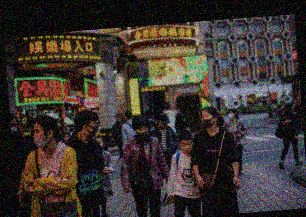mask_weared_incorrect: (32, 125, 48, 148)
with_mask: (134, 122, 149, 139), (200, 110, 215, 126), (85, 119, 99, 136), (10, 119, 18, 132), (226, 109, 235, 119)
without_mask: (180, 139, 194, 152), (159, 119, 167, 128)
